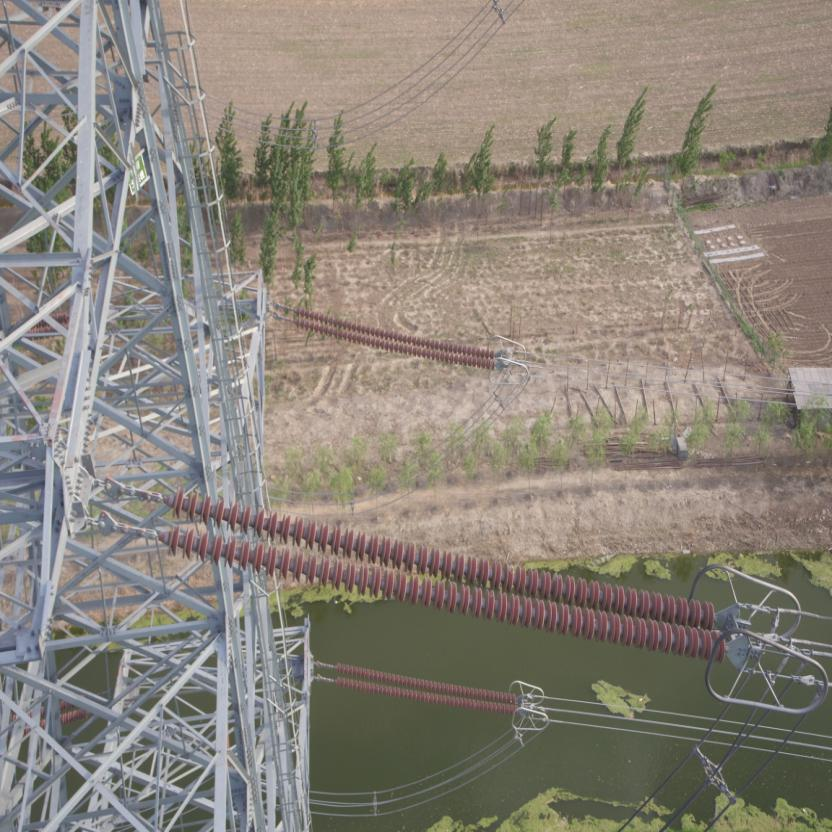insulator: (132, 478, 736, 663), (286, 304, 497, 369), (321, 656, 522, 716)
